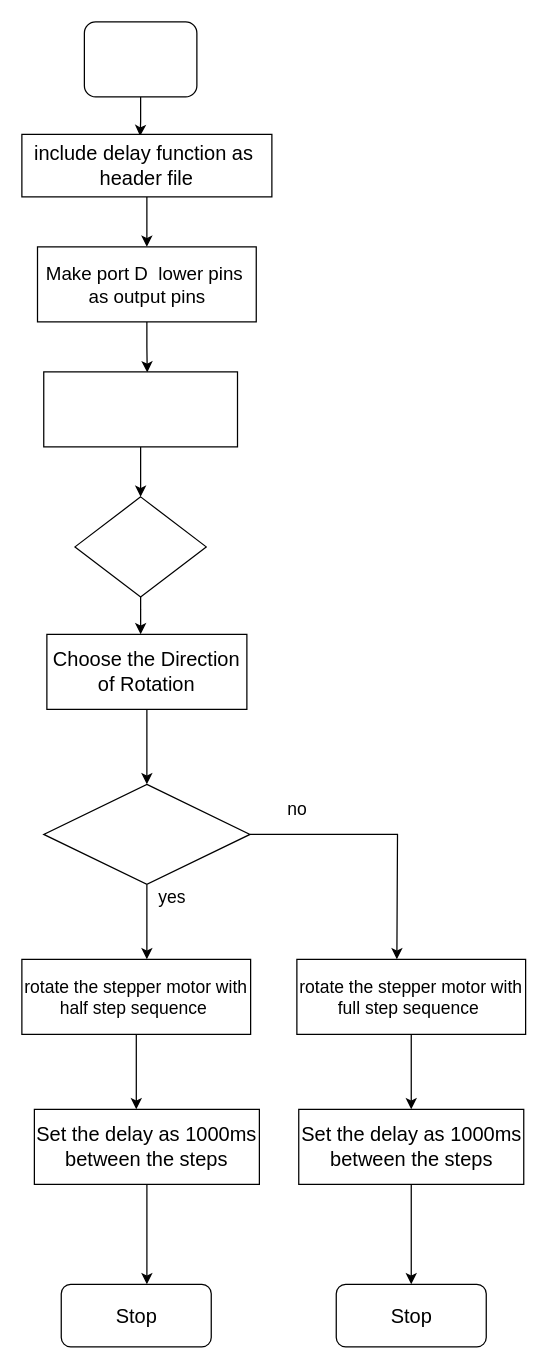
This 548x1369 diagram has some shape labels left out. Each missing label, with the centre of its shape:
"if direction =clockwise" belongs at [146,833].
"Set period between Two steps" belongs at [140,409].
"Start" belongs at [140,59].
"While(1)" belongs at [140,546].
